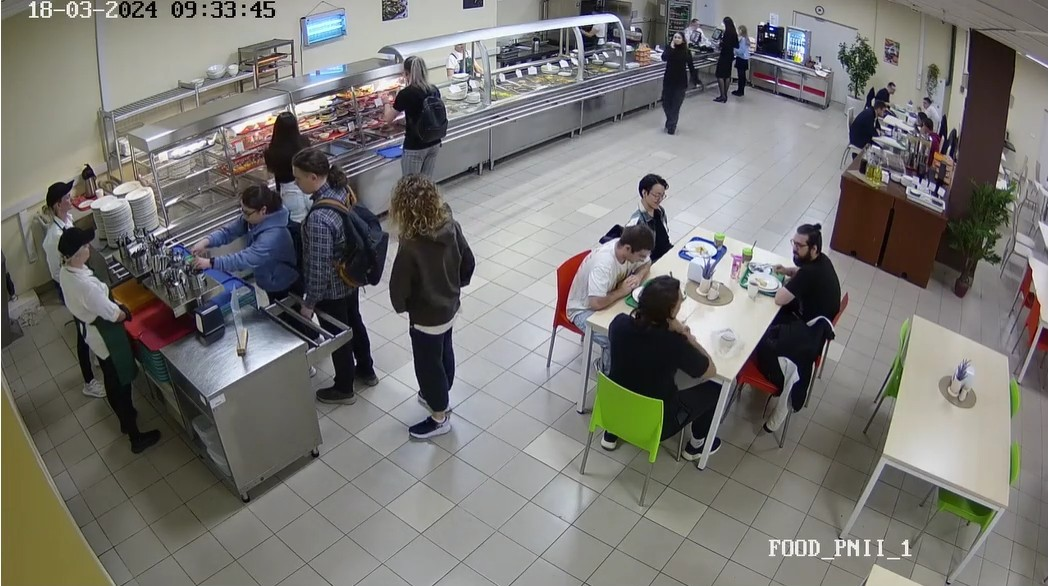Na_Kasse: (713, 13, 737, 102), (732, 22, 751, 99)
Personal: (36, 224, 234, 471), (24, 173, 103, 241), (445, 28, 479, 74), (582, 12, 607, 47)
Vybiraet: (383, 178, 472, 439), (285, 148, 375, 399), (193, 185, 298, 293), (377, 53, 449, 182), (658, 30, 694, 138), (263, 109, 301, 206)
Za_Stolom: (607, 270, 720, 459), (566, 212, 649, 329), (764, 219, 844, 338), (627, 168, 677, 259), (852, 94, 881, 149), (870, 77, 902, 119), (914, 114, 941, 158), (918, 92, 939, 121)
